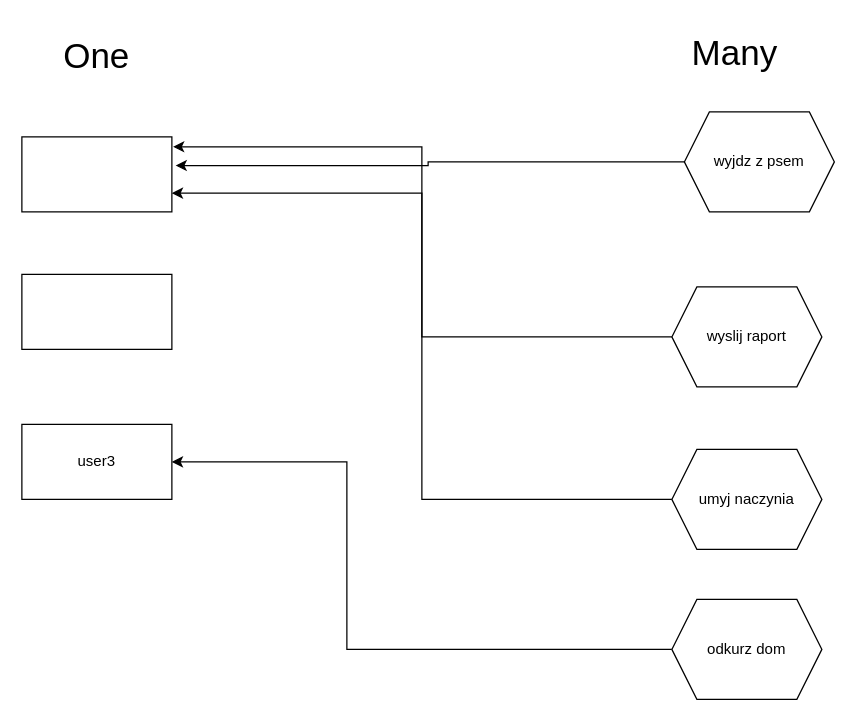
Some shapes in this 856 by 721 pixel diagram are drawn without their labels. The centre of each missing label's shape, as x and y in pixels:
"user1" belongs at (x=96, y=174).
"user2" belongs at (x=96, y=311).
